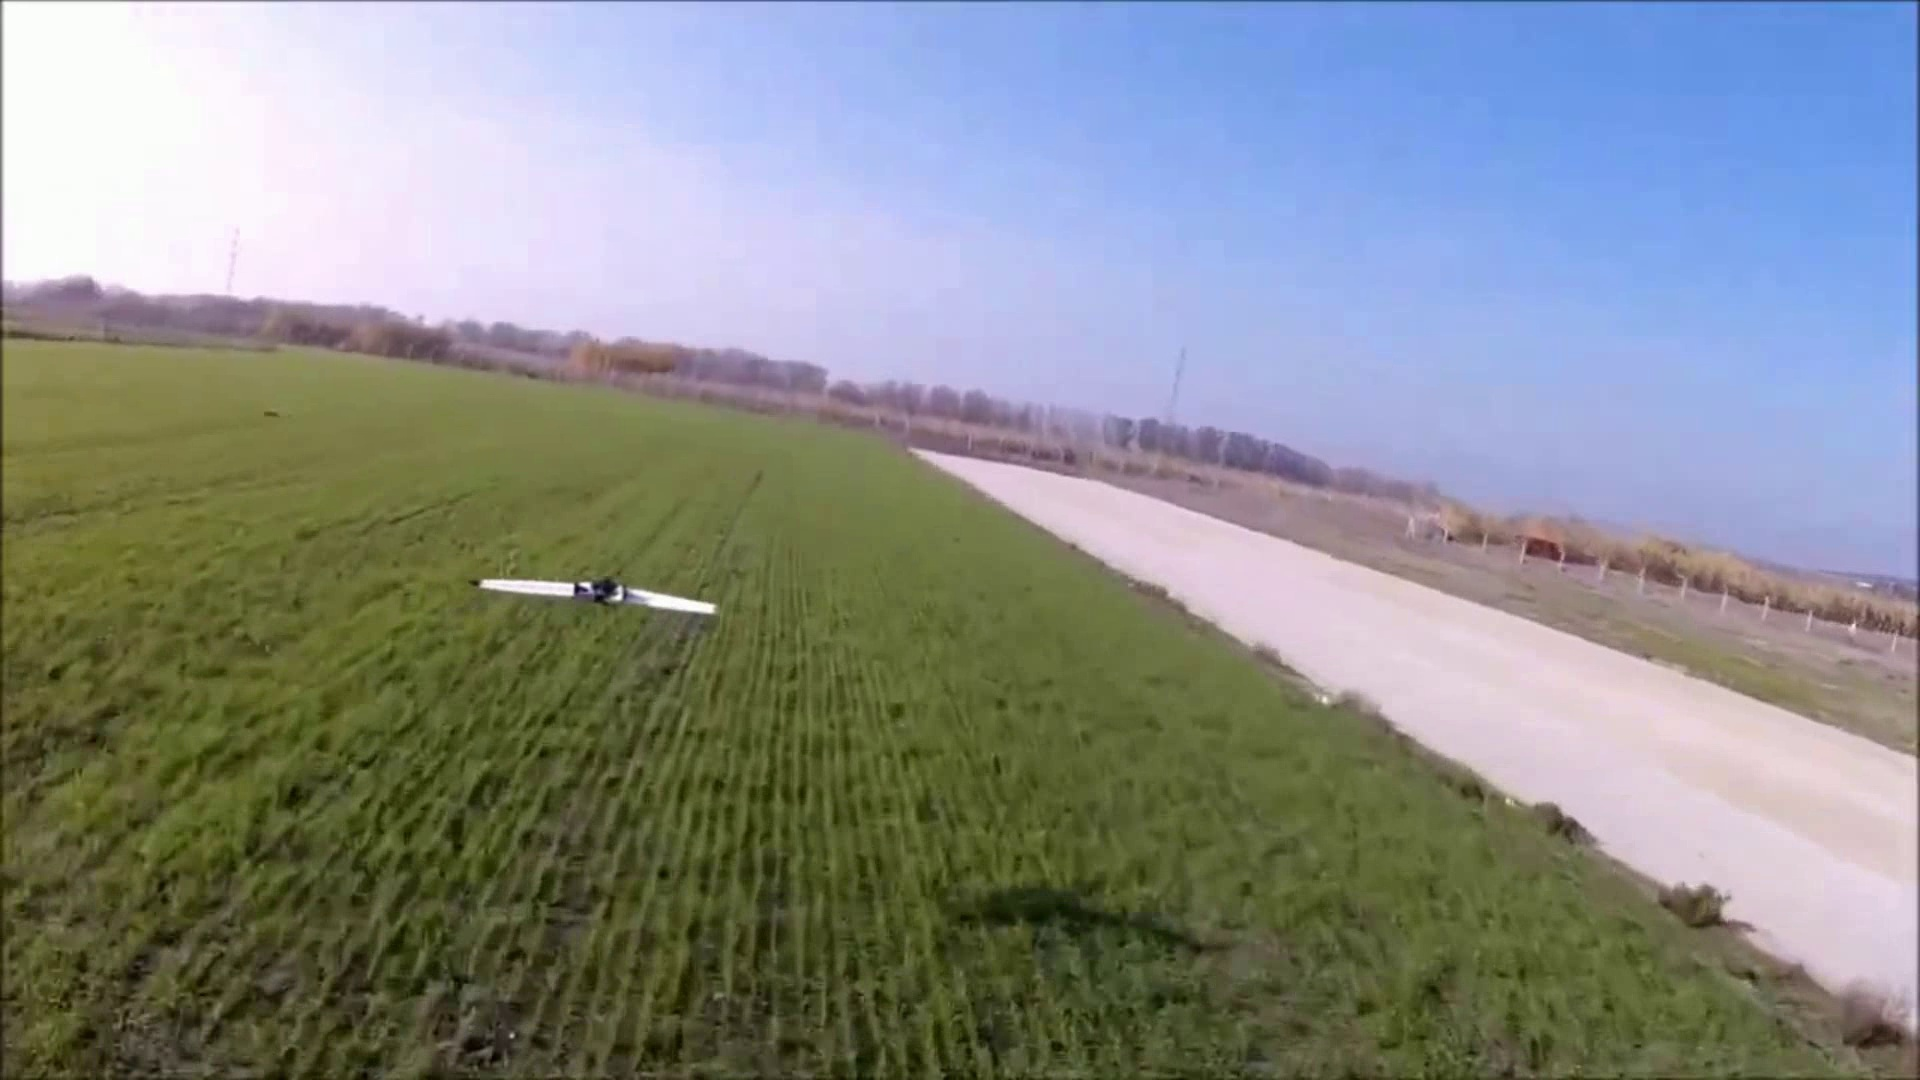airplane: (477, 575, 717, 624)
